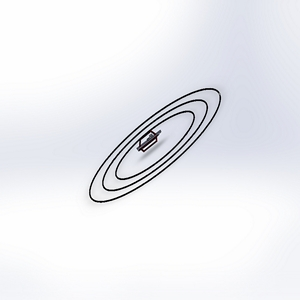circle: (81, 80, 223, 213)
submarine: (132, 127, 164, 154)
